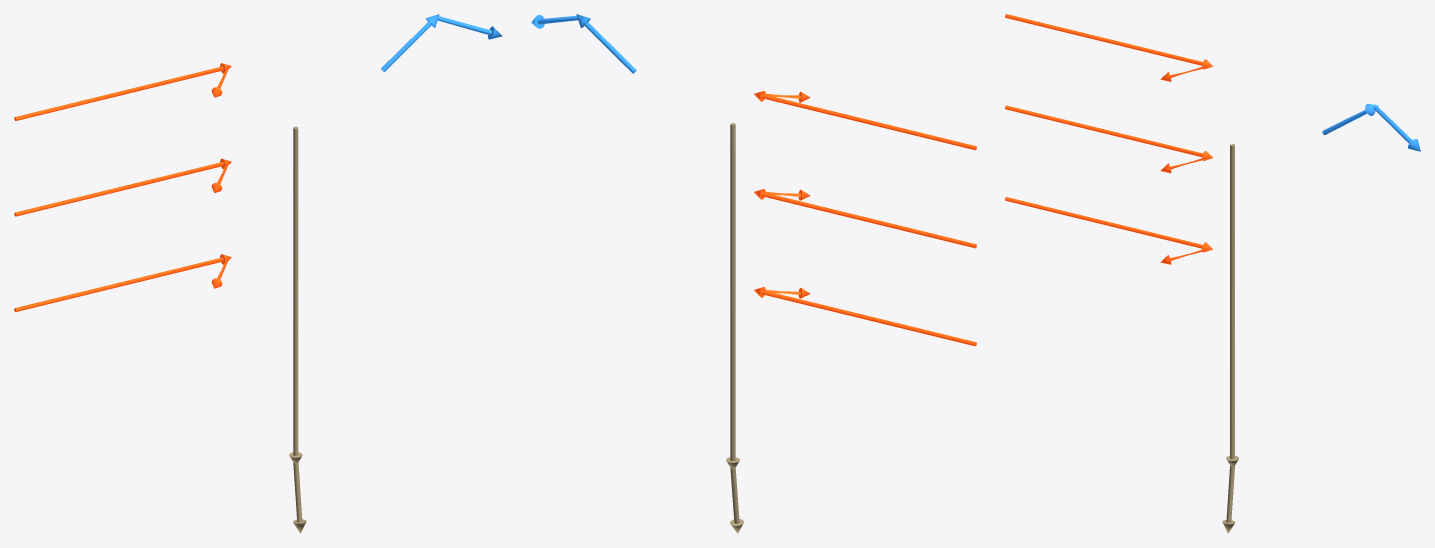
The model's file is process_liquor_clarifier_flow.glb.
3 views of the same model, side by side, from view 1: azimuth 30°, elevation 25°; view 2: azimuth 150°, elevation 25°; view 3: azimuth 330°, elevation 25° (orthographic). The views are drawn at different scales.
Visible parts, largest first — view 1: mud, feed_tray_2, feed_tray_1, feed_tray_3, clear_liquor; view 2: mud, feed_tray_2, feed_tray_1, feed_tray_3, clear_liquor; view 3: mud, feed_tray_1, feed_tray_3, feed_tray_2, clear_liquor.
Boxes of the visible parts, x1,y1,x2,y2 form: mud: (289,126,306,533); feed_tray_2: (14,158,231,216); feed_tray_1: (14,254,231,311); feed_tray_3: (14,63,231,120); clear_liquor: (381,14,502,71); mud: (726,123,743,533); feed_tray_2: (754,189,976,248); feed_tray_1: (754,287,976,346); feed_tray_3: (754,91,976,150); clear_liquor: (531,14,636,73); mud: (1222,144,1238,533); feed_tray_1: (1005,197,1212,264); feed_tray_3: (1005,14,1212,81); feed_tray_2: (1005,105,1212,173); clear_liquor: (1322,104,1420,151).
Size of the model in its own units: 3.03 by 3 by 0.3643.
